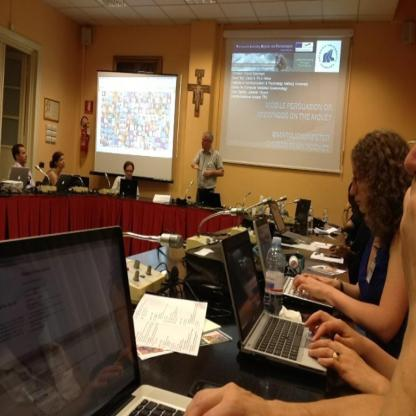board: (0, 224, 193, 416), (222, 230, 337, 378), (253, 206, 332, 310), (261, 235, 285, 319), (268, 202, 310, 242), (10, 167, 29, 188), (194, 188, 215, 205), (120, 178, 136, 197), (54, 173, 72, 187), (207, 193, 222, 207), (72, 177, 89, 189), (323, 205, 330, 228)
